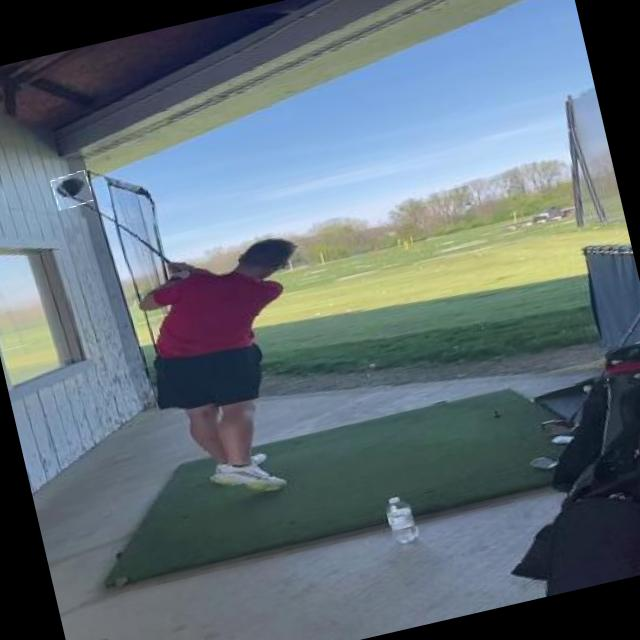club head: (51, 170, 94, 210)
